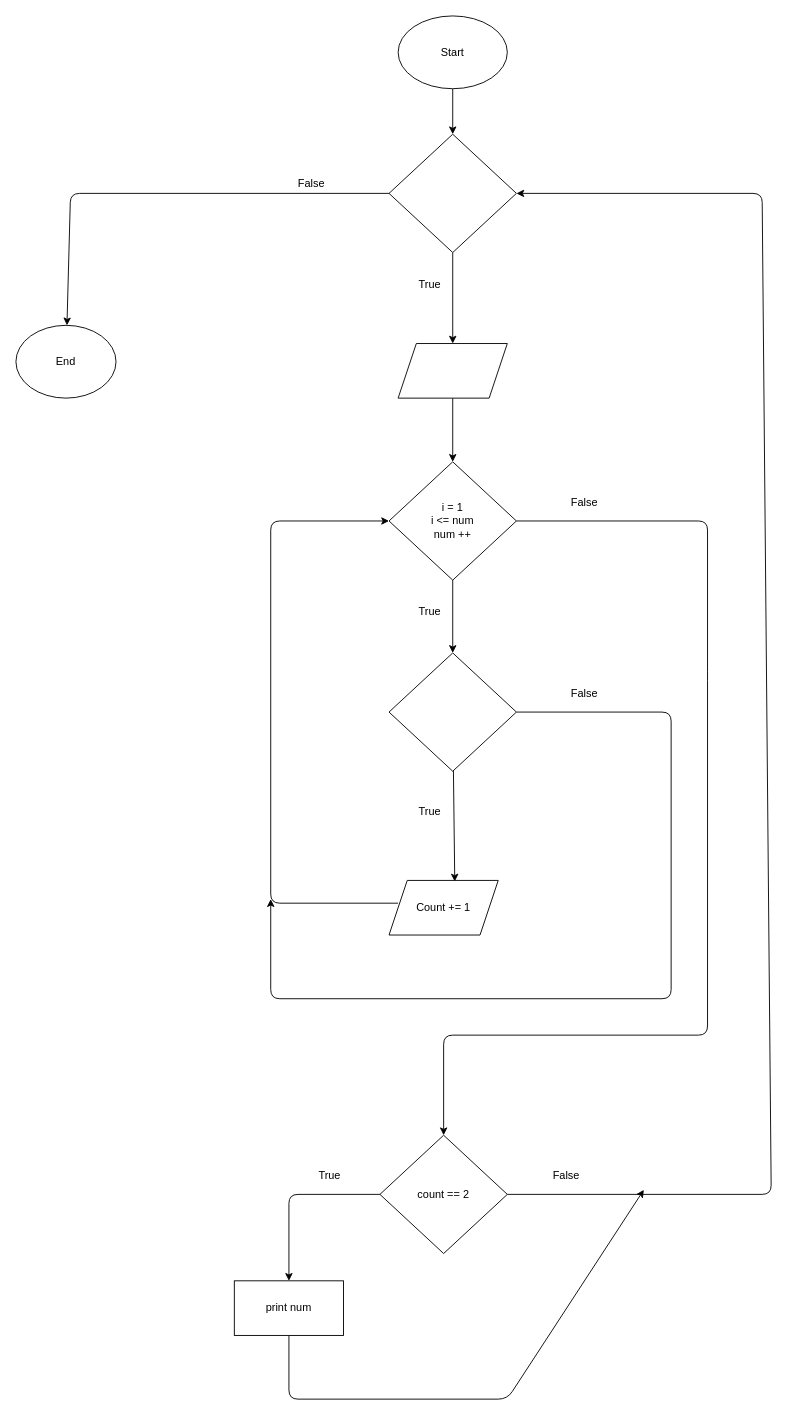
Image size: 794x1422. Some labels were removed from this diagram. Each missing label, with the centre of its shape:
Count = 0: the point at 452,370
num % i = 0: the point at 452,711
num = 1 num <= 100 num ++: the point at 452,193
